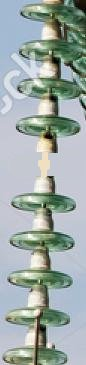gap: (7, 111, 82, 218)
